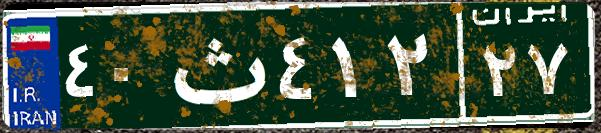0: (110, 28, 158, 105)
1: (330, 28, 385, 110)
2: (385, 28, 445, 110), (475, 38, 525, 113)
4: (273, 28, 330, 110), (57, 26, 110, 107)
7: (525, 38, 570, 115)
ث: (158, 15, 273, 115)
